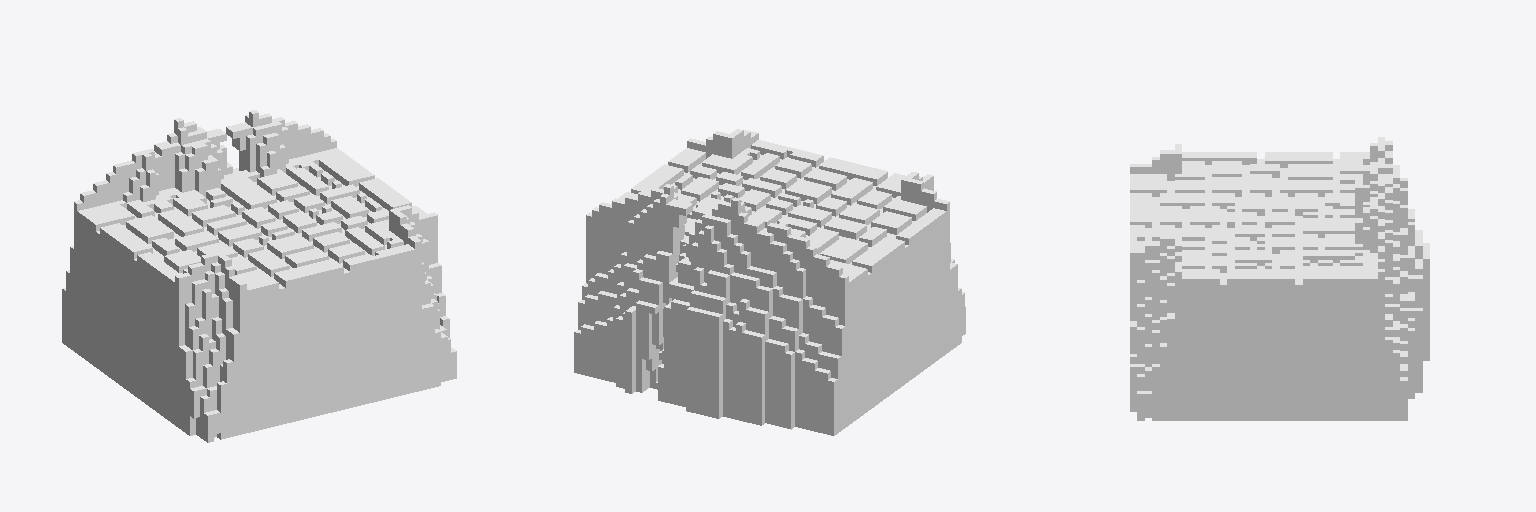
Rendered from T_Corner_Magma.obj.
The picture shows the model from 3 angles: view 1: azimuth 30°, elevation 25°; view 2: azimuth 150°, elevation 25°; view 3: azimuth 270°, elevation 25°; orthographic projection.
Bounding box in the file's own units: 40 × 30 × 40.